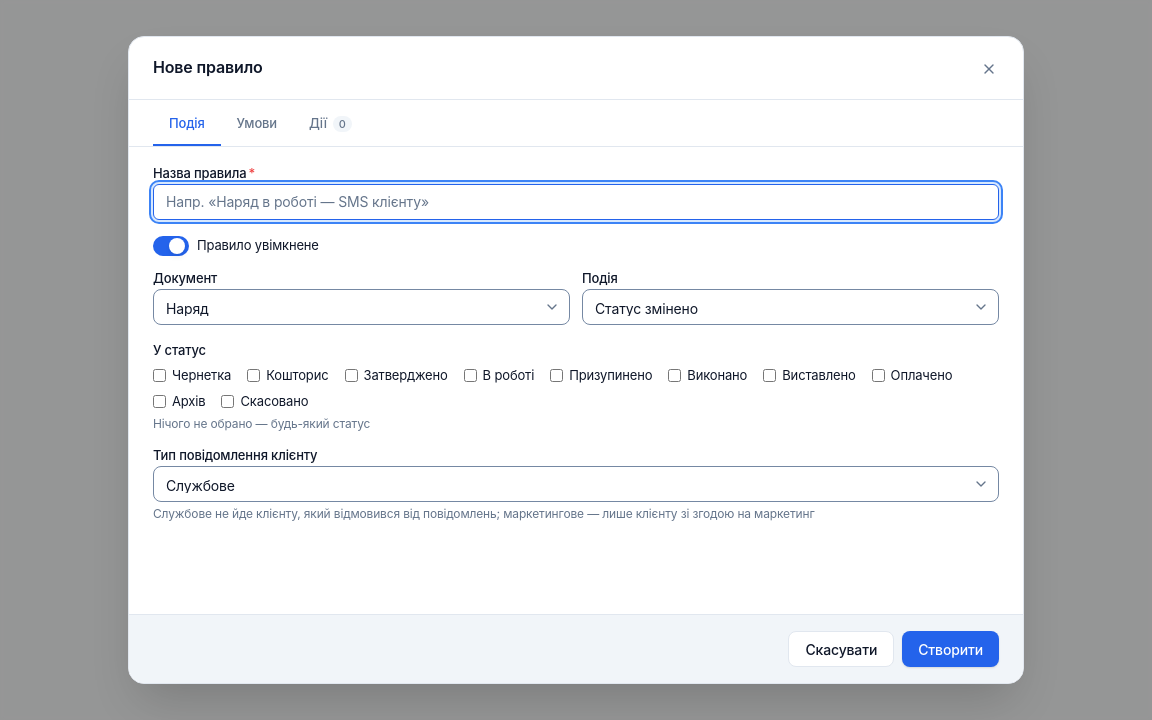
Test case: Картка правила — створення › без дій — помилка «Додайте хоча б одну дію» на вкладці «Дії», запиту немає
The image size is (1152, 720).
In the field labelled "Назва правила*": {"x": 576, "y": 202} [153, 184, 999, 220], type "Правило"
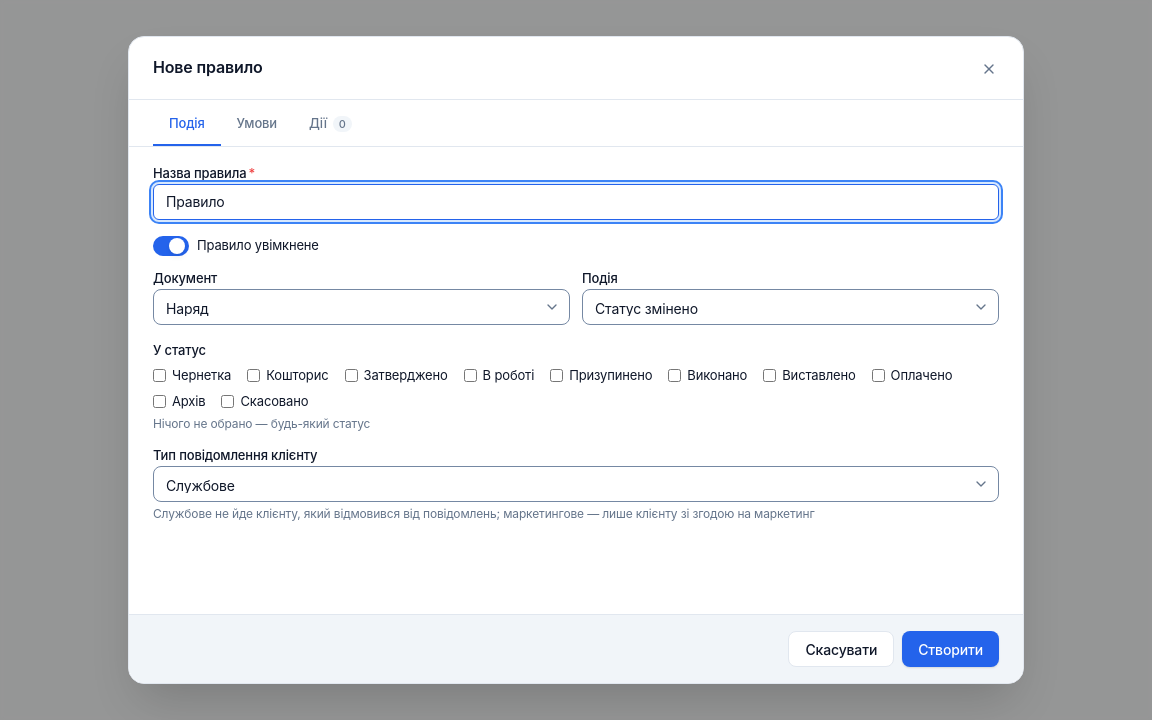
Click the button "Створити": {"x": 951, "y": 649} [902, 631, 999, 667]
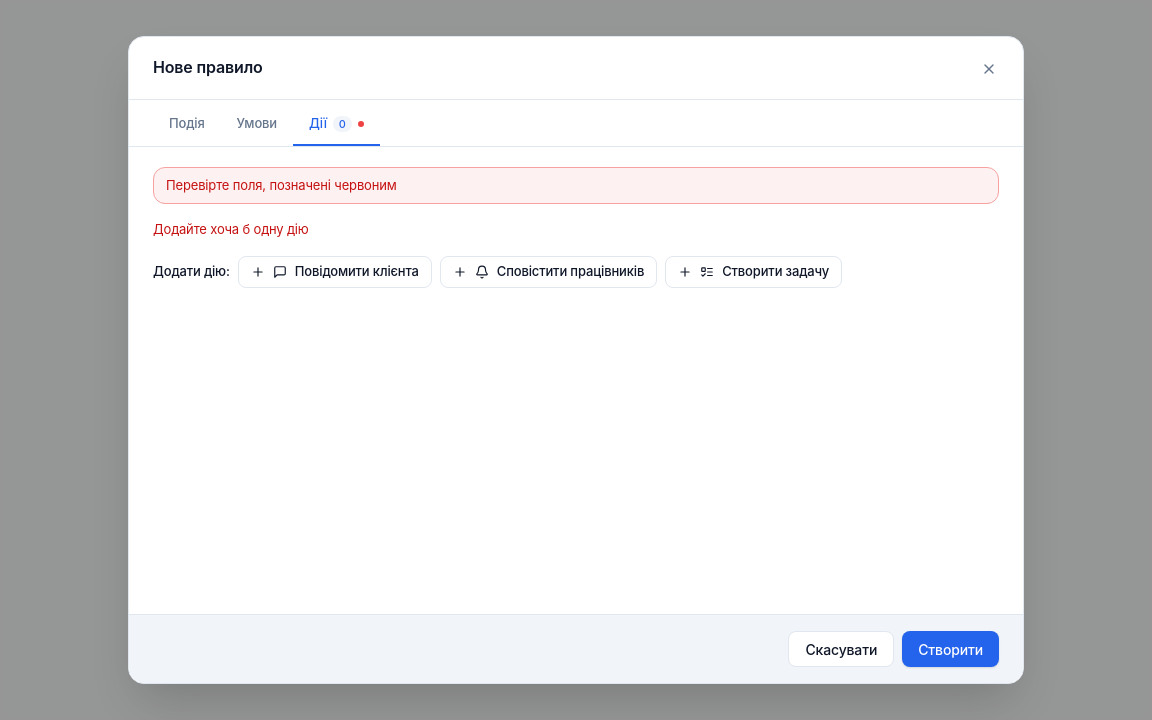
Expected: the text "Додайте хоча б одну дію" is shown, [153, 221, 309, 237]
